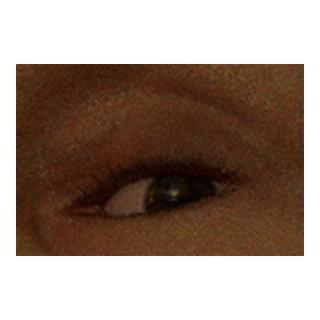pupil: (165, 187, 198, 219)
